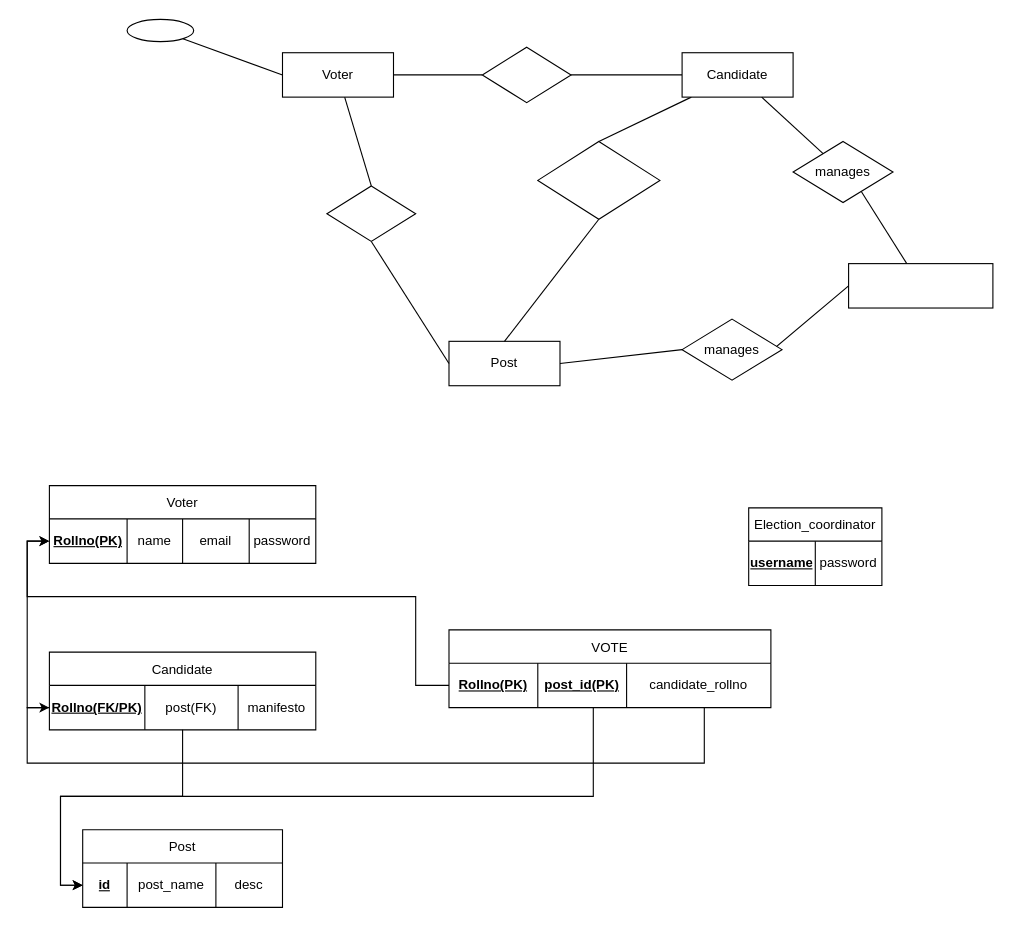
This 1012x927 diagram has some shape labels left out. Here are the shapes that lost their labels. From the top down, the centre of each, then its label:
[160,30]: rollno
[526,74]: is_a
[598,179]: appliies_to
[371,213]: votes
[920,285]: Election Coordinator
